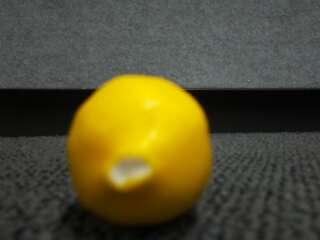lemon: (68, 76, 214, 228)
